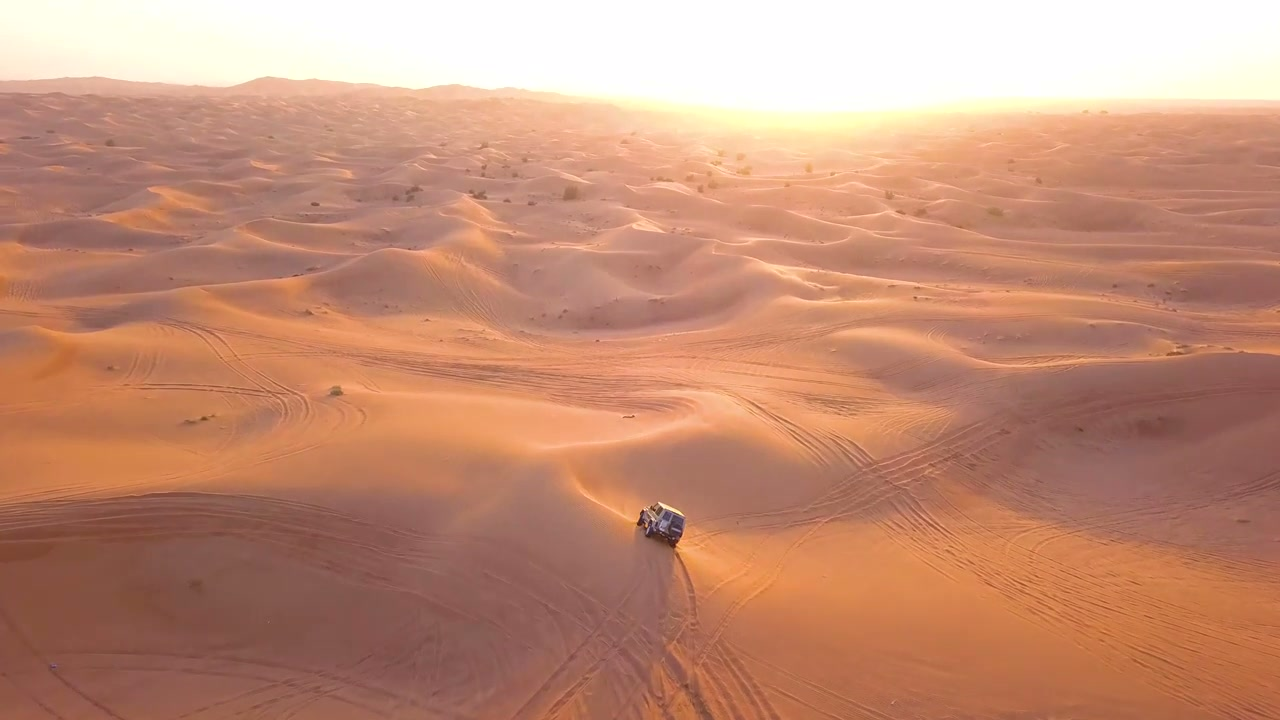vehicle_track: (691, 384, 1279, 543), (878, 485, 1279, 717), (0, 493, 589, 638), (0, 492, 583, 634), (704, 423, 1013, 646), (513, 558, 778, 719), (691, 422, 1007, 544), (135, 321, 365, 483), (280, 340, 694, 411), (61, 651, 474, 719), (611, 556, 775, 719), (1006, 470, 1279, 554), (170, 321, 318, 463), (511, 574, 650, 719), (723, 640, 894, 719), (724, 391, 869, 468), (49, 672, 124, 719), (119, 342, 160, 386)
